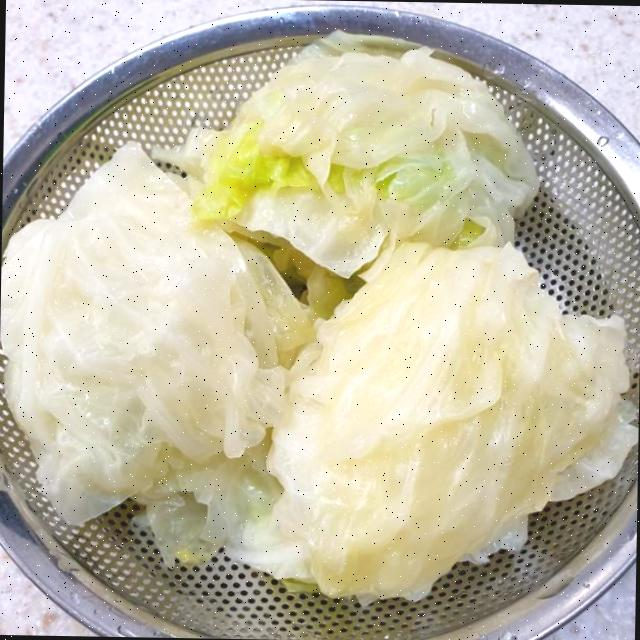cabbage: (261, 238, 635, 606), (0, 146, 311, 567), (225, 50, 530, 262)
